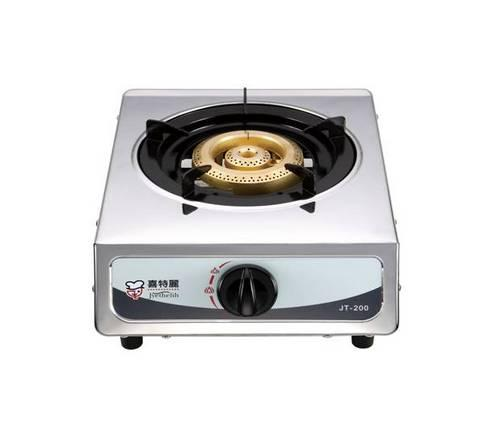gasoven: (87, 81, 410, 355)
